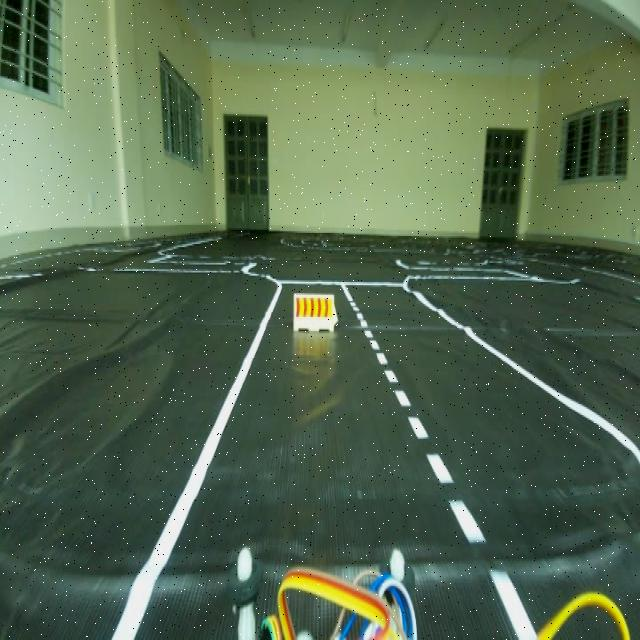roadblock: (288, 287, 340, 337)
